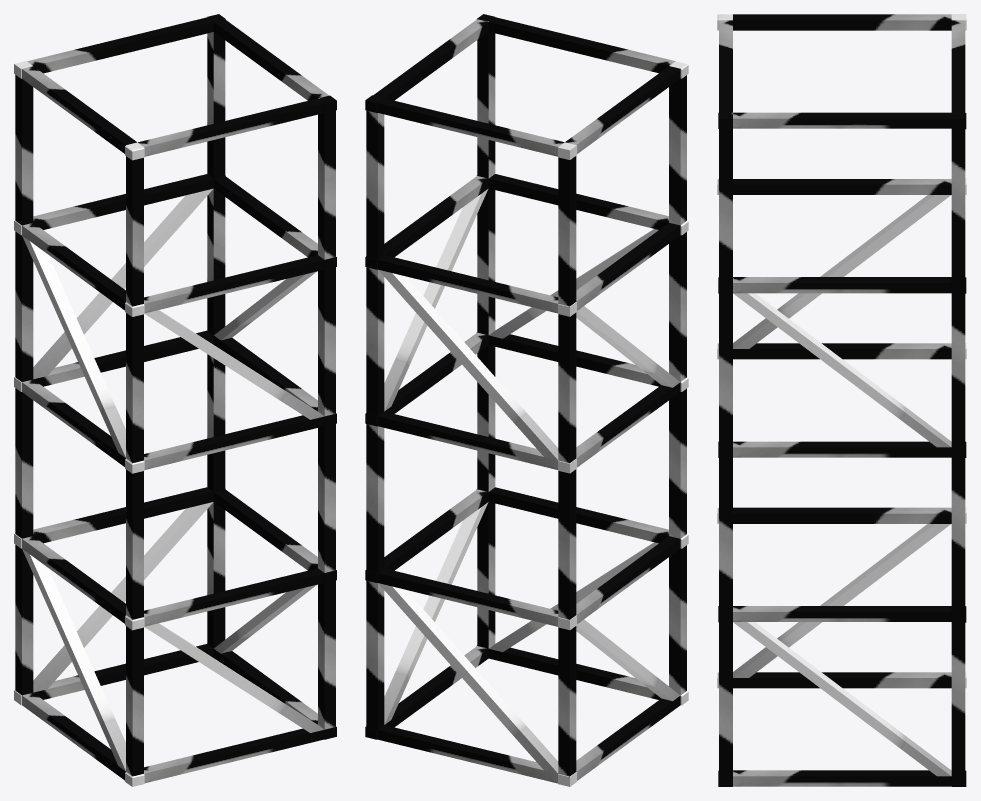
Rendered from WF_frame_chimney.fbx.
3 views of the same model, side by side, from view 1: azimuth 30°, elevation 25°; view 2: azimuth 150°, elevation 25°; view 3: azimuth 270°, elevation 25° (orthographic). The views are drawn at different scales.
Visible parts, largest first — view 1: WF_frame_chimney; view 2: WF_frame_chimney; view 3: WF_frame_chimney.
Boxes of the visible parts, <box> form: WF_frame_chimney: <box>14,14,336,786</box>; WF_frame_chimney: <box>365,14,688,786</box>; WF_frame_chimney: <box>717,14,966,786</box>.
Bounding box in the file's own units: 54.87 × 162 × 54.92.
